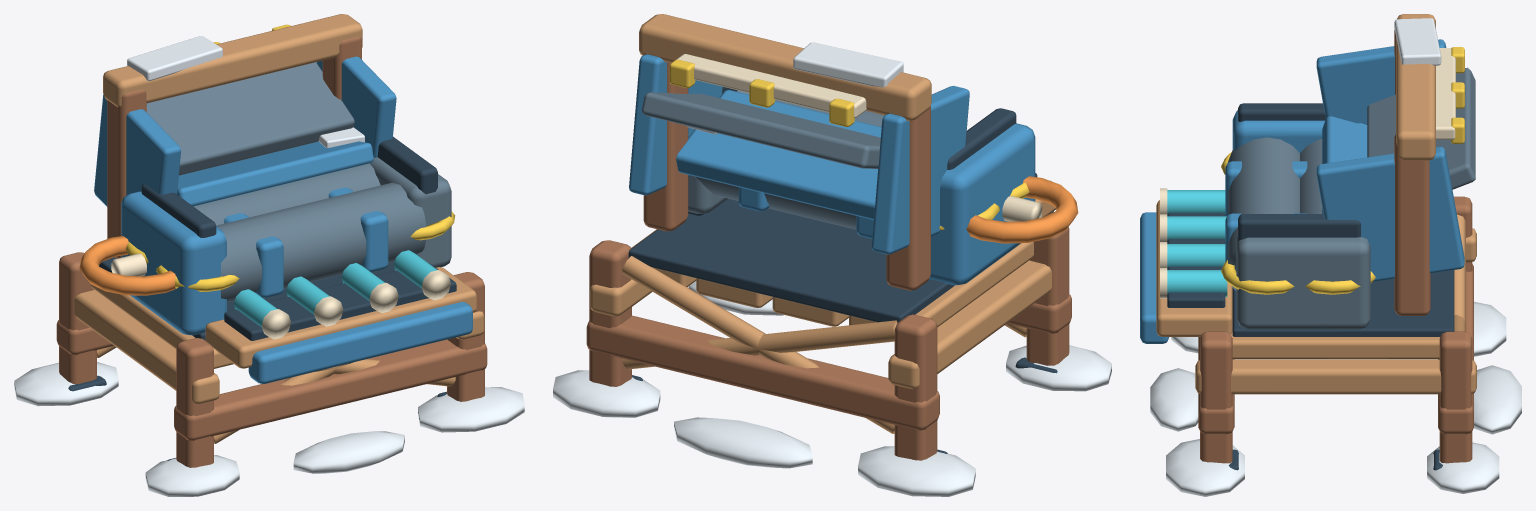
The model's file is intake_machine.glb.
3 views of the same model, side by side, from view 1: azimuth 30°, elevation 25°; view 2: azimuth 150°, elevation 25°; view 3: azimuth 270°, elevation 25° (orthographic). The views are drawn at different scales.
Visible parts, largest first — view 1: intake_machine; view 2: intake_machine; view 3: intake_machine.
Boxes of the visible parts, <box> form: intake_machine: <box>14,14,524,496</box>; intake_machine: <box>553,14,1111,496</box>; intake_machine: <box>1140,14,1521,496</box>.
Size of the model in its own units: 2.51 by 2.12 by 2.1.
